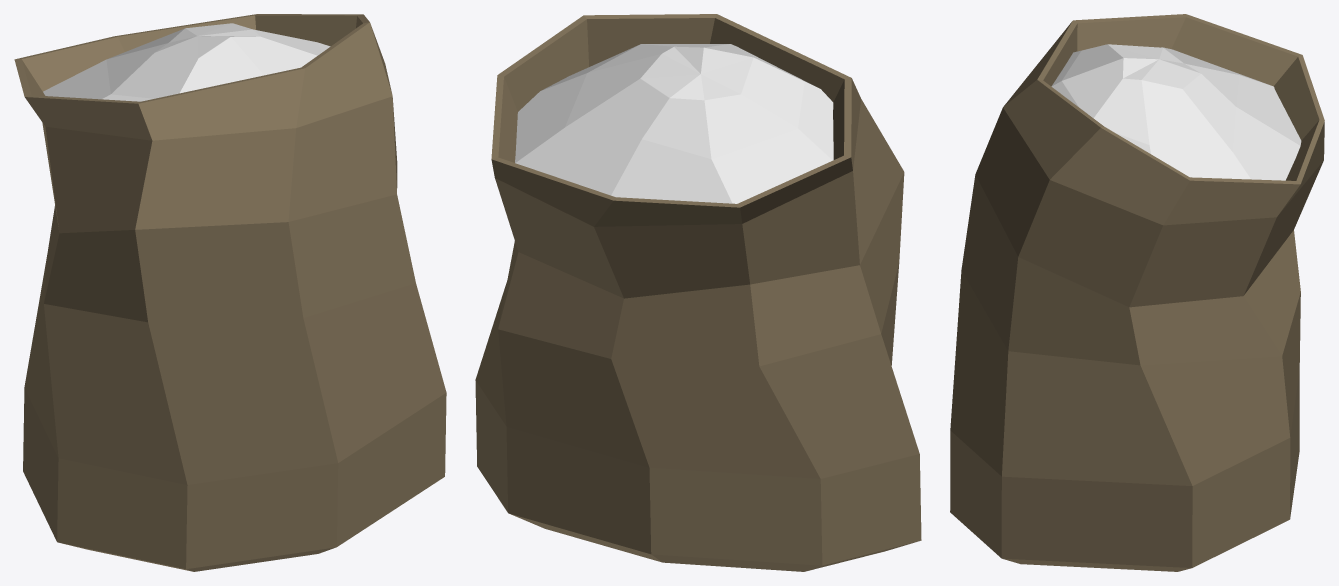
Rendered from Flour.fbx.
3 renders of one model, left to right at view 1: azimuth 30°, elevation 25°; view 2: azimuth 150°, elevation 25°; view 3: azimuth 270°, elevation 25°, orthographic. The views are drawn at different scales.
Parts seen in each view (by area): view 1: Circle, Circle.002; view 2: Circle, Circle.002; view 3: Circle, Circle.002.
Boxes of the visible parts, left/top/right/bottom form: Circle: left=14, top=14, right=446, bottom=571; Circle.002: left=43, top=23, right=330, bottom=101; Circle: left=475, top=14, right=921, bottom=571; Circle.002: left=515, top=44, right=833, bottom=203; Circle: left=950, top=14, right=1324, bottom=571; Circle.002: left=1051, top=44, right=1301, bottom=180.
Size of the model in its own units: 190 by 225 by 164.
